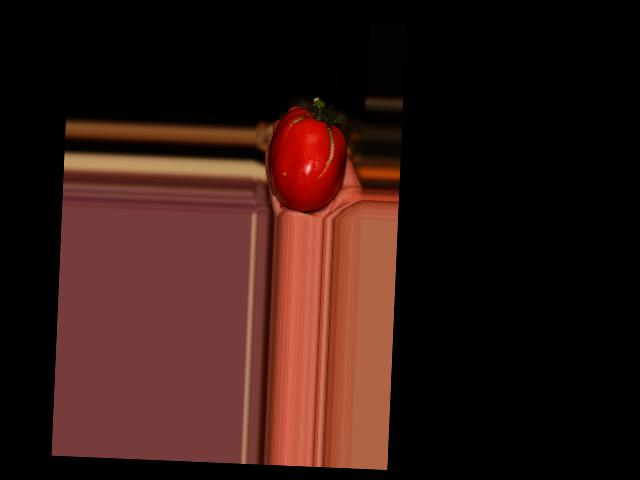tomato: (265, 106, 347, 213)
